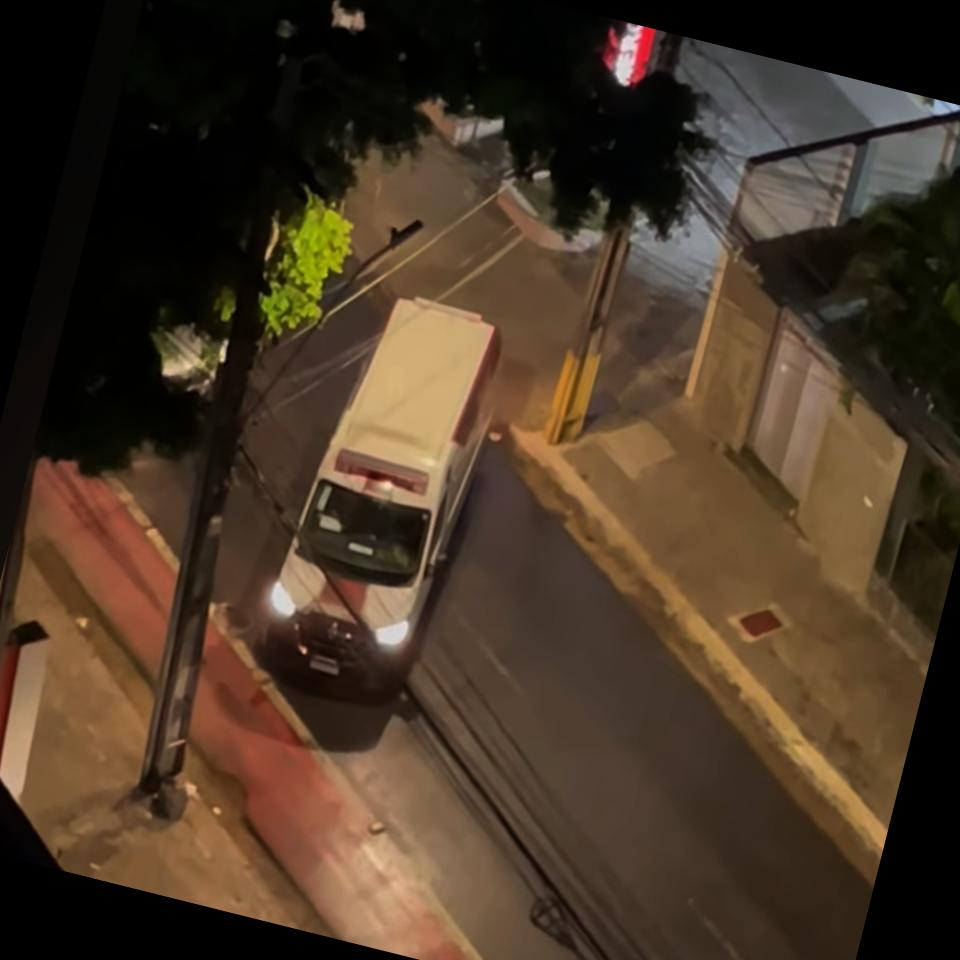bombeiro: (244, 274, 518, 714)
